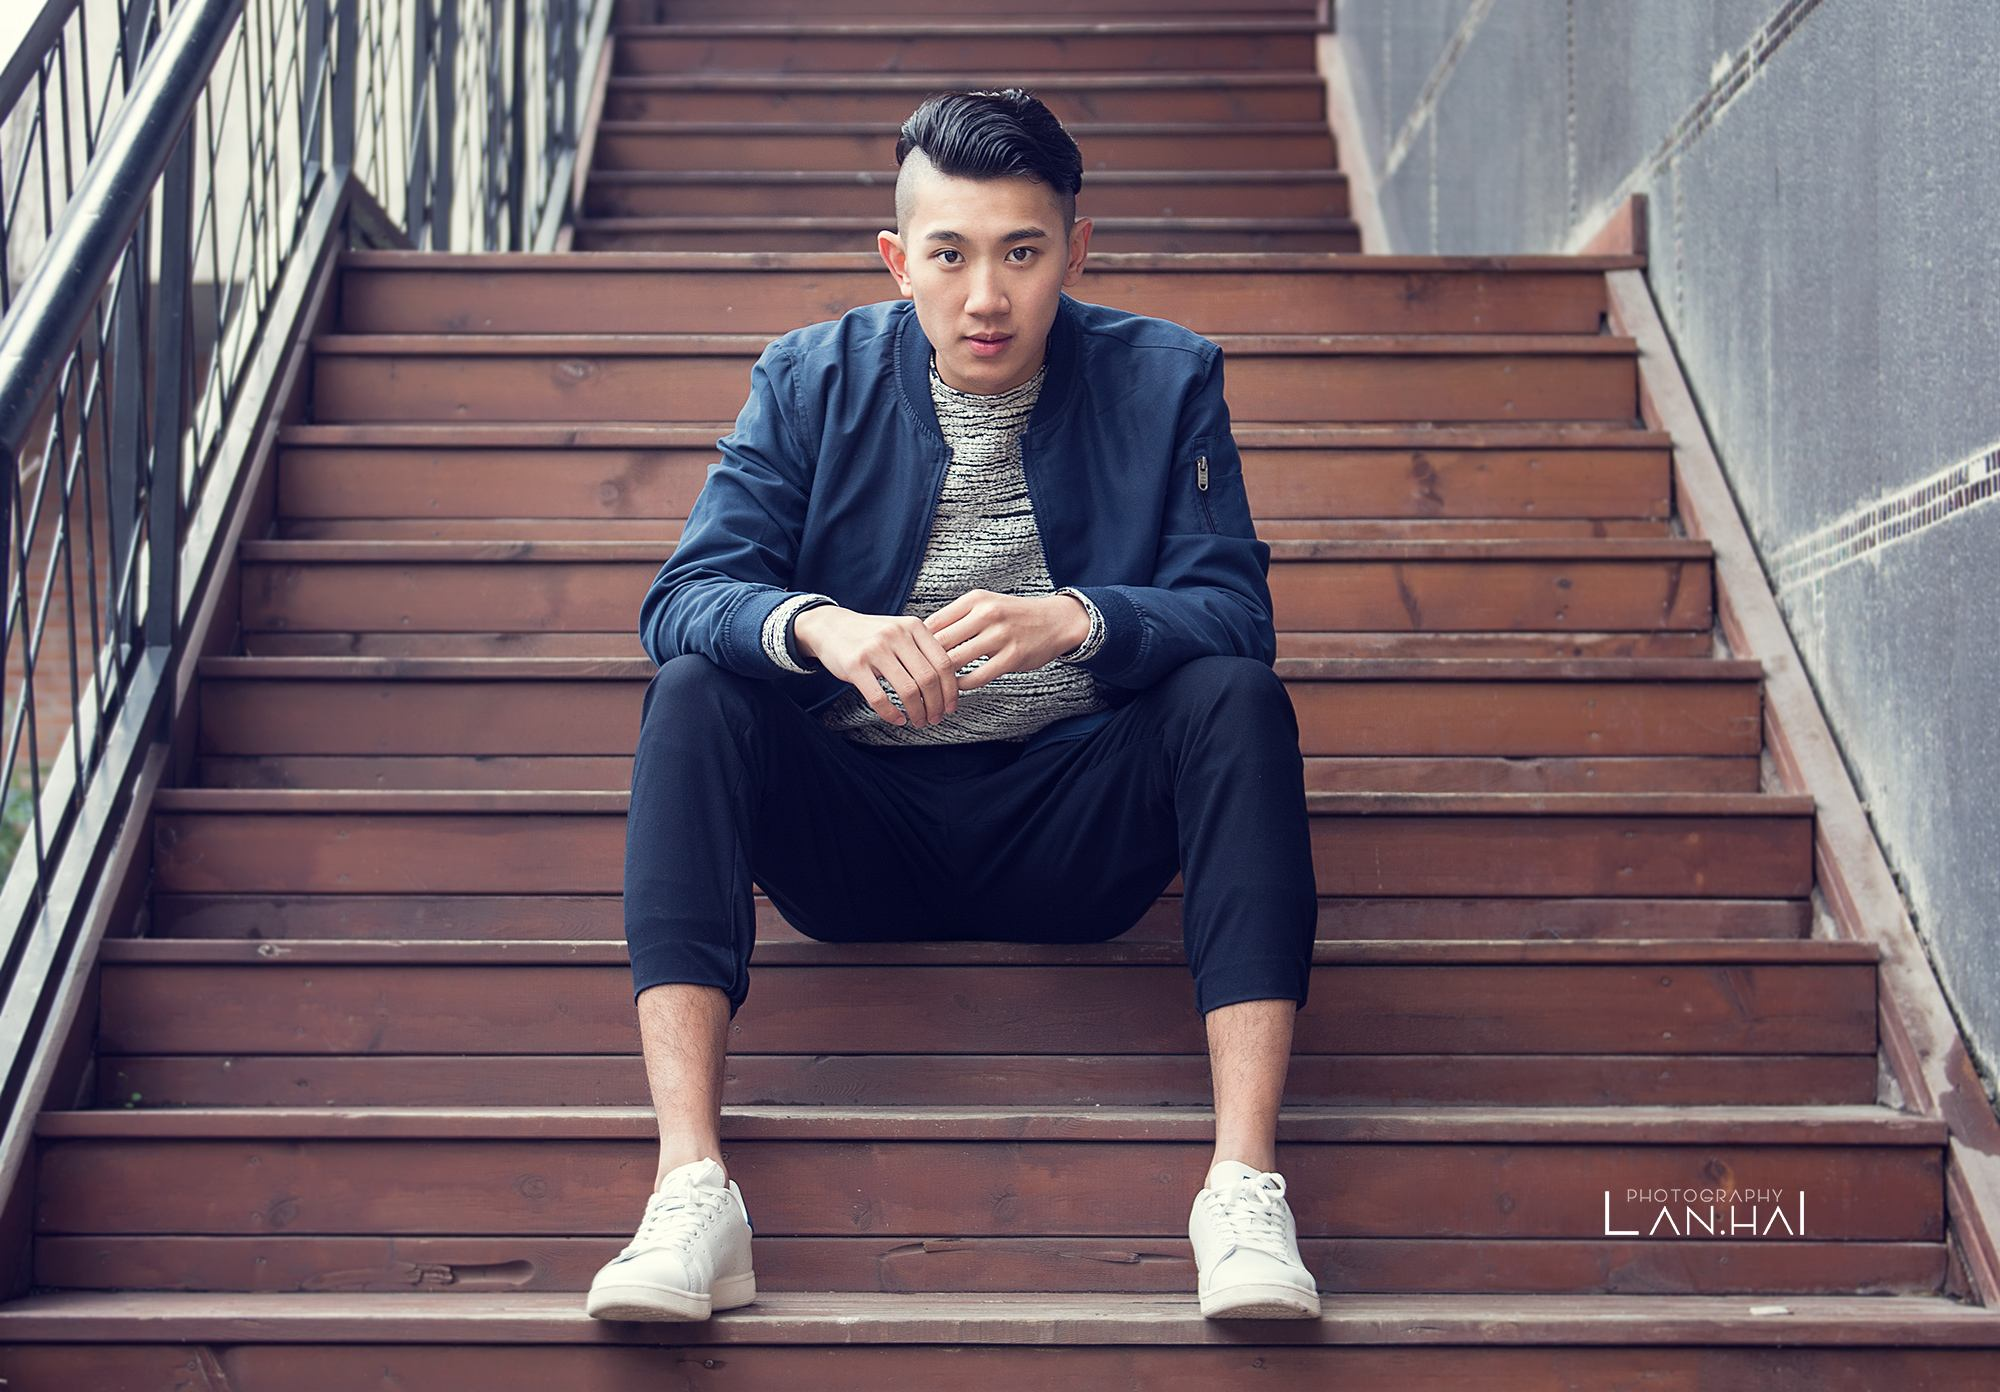person: (634, 98, 1421, 1298)
